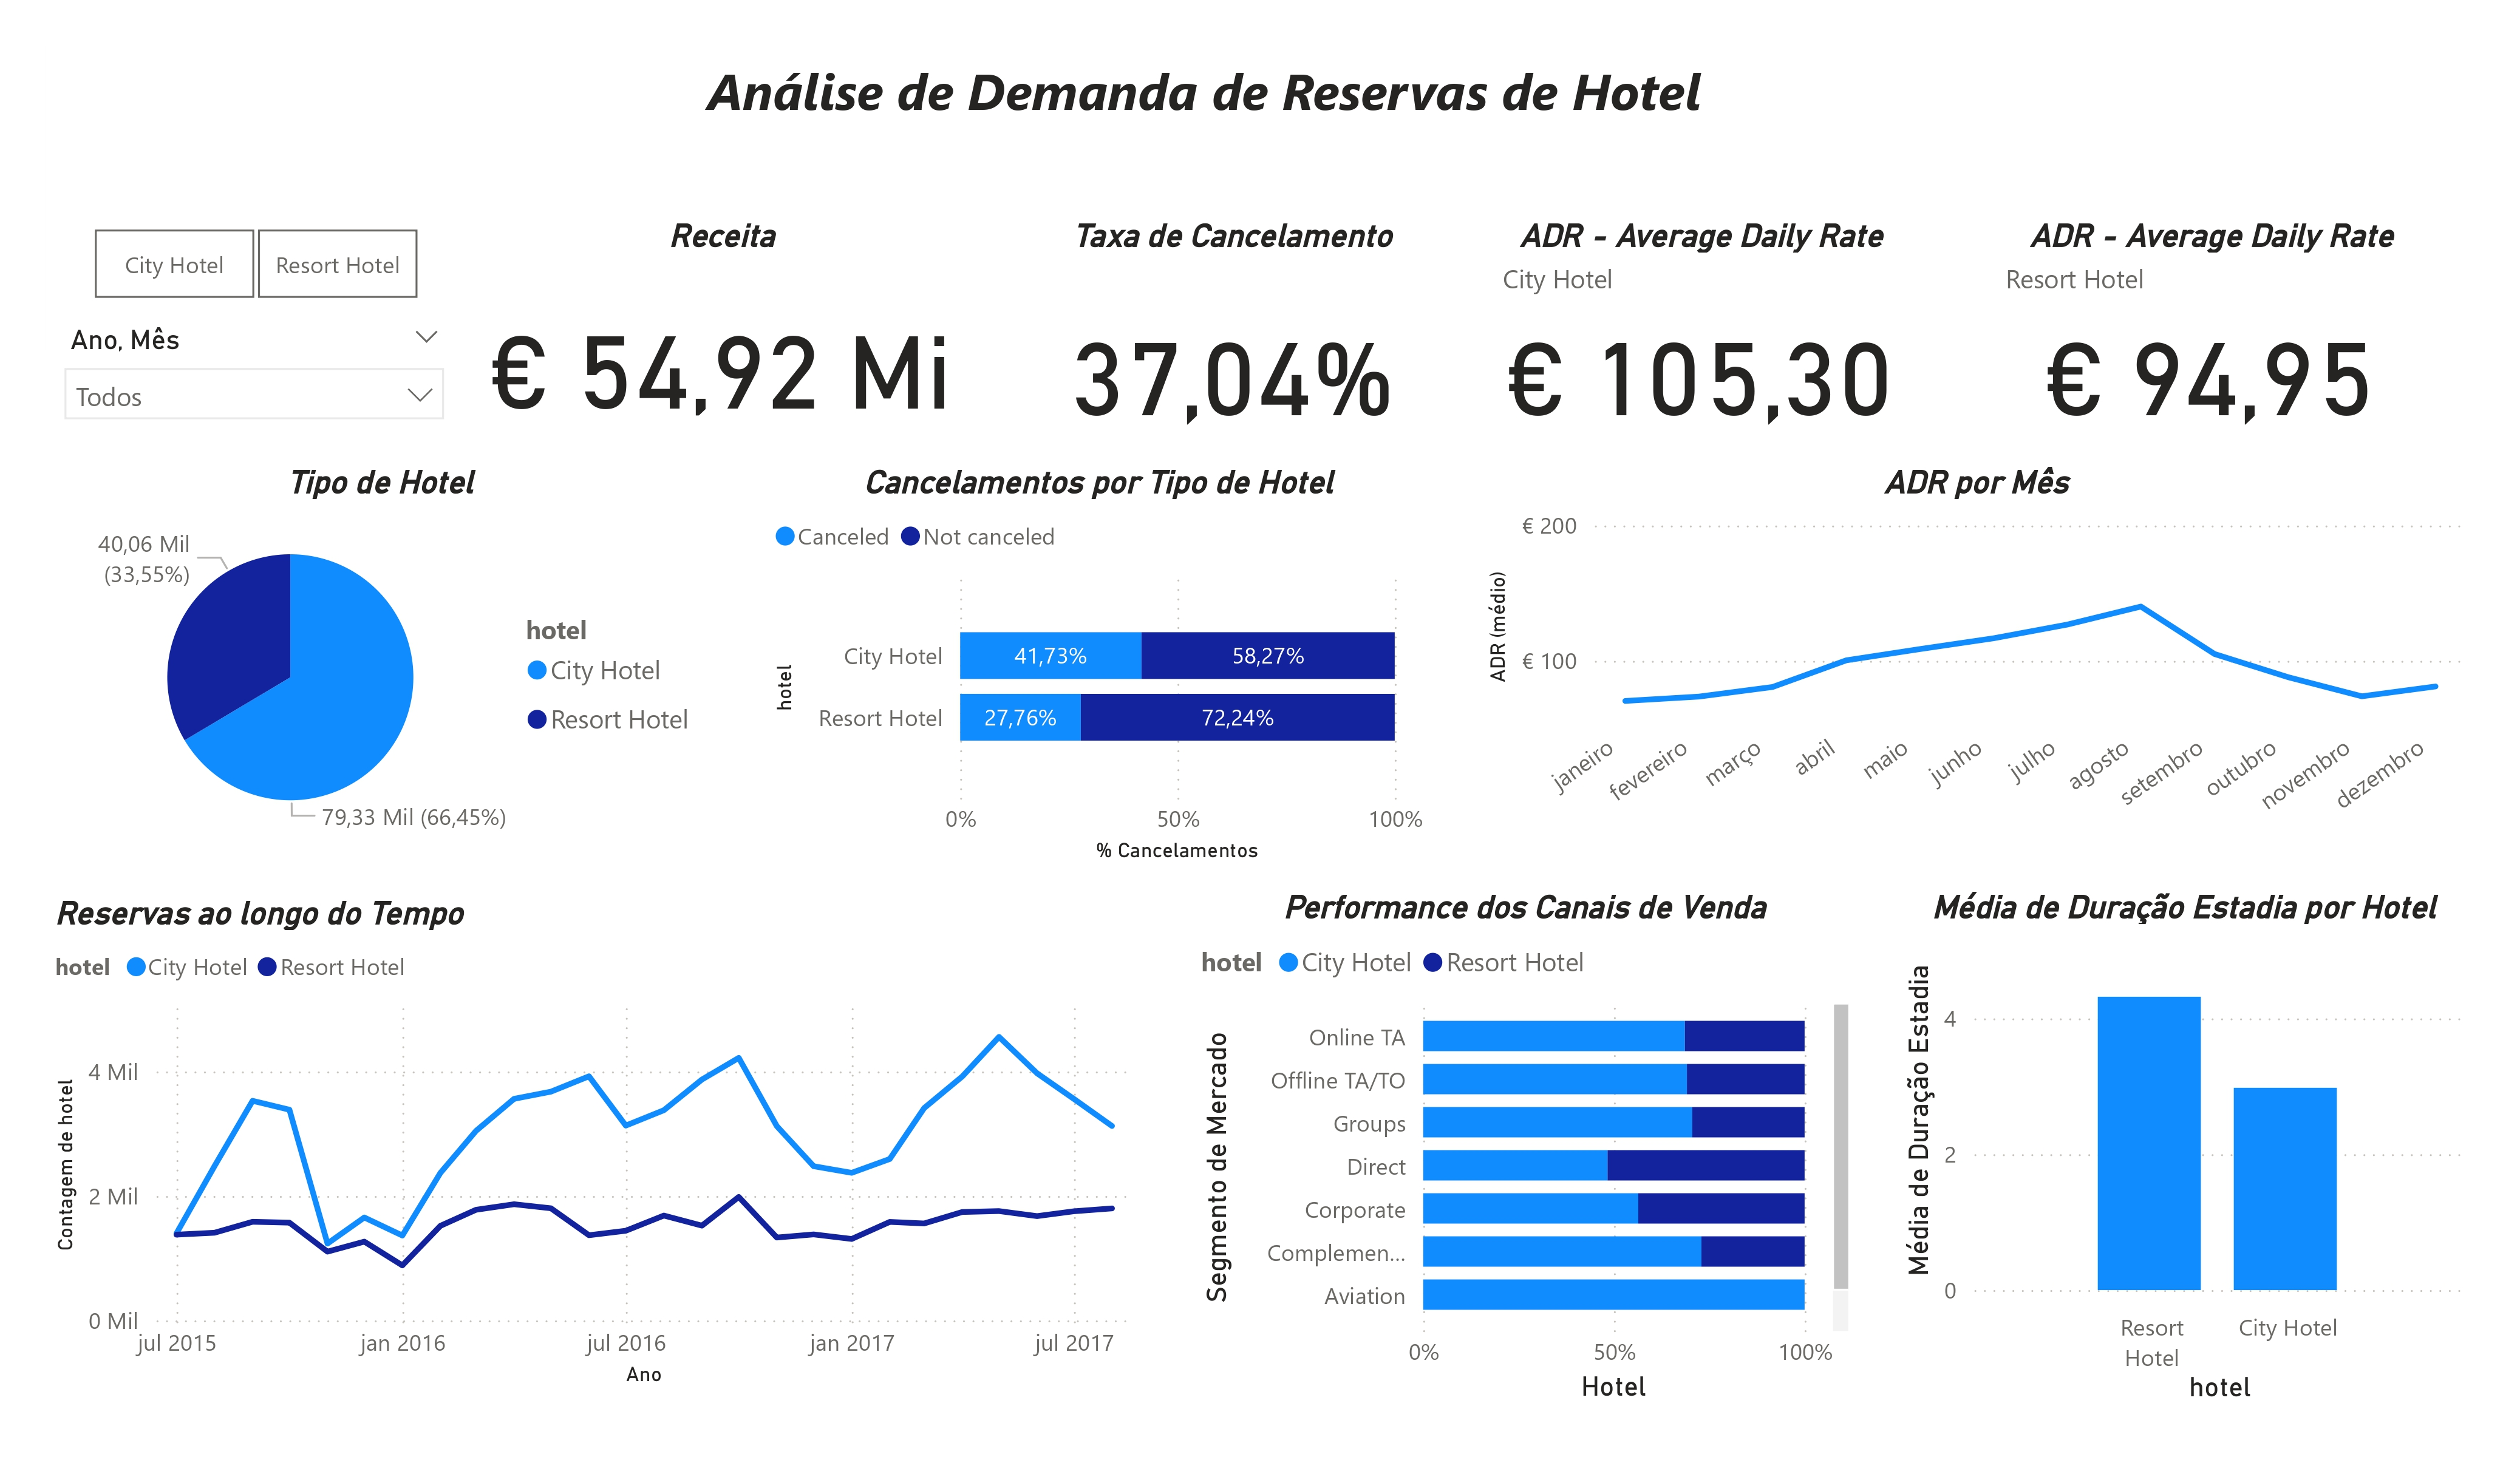

The page's visual inventory and layout, read from the dashboard file:
{"tool":"powerbi","page":{"name":"Visão Geral","canvas":[1280,720],"ordinal":0},"visuals":[{"type":"pieChart","title":"Tipo de Hotel","fields":{"Category":["hotel_booking_tratado.hotel"],"Y":["CountNonNull(hotel_booking_tratado.hotel)"]},"box":[0,220,353,207],"z":0},{"type":"card","title":"Taxa de Cancelamento","fields":{"Values":["hotel_booking_tratado.Taxa_de_Cancelamento"]},"box":[520,90,211,117],"z":1000},{"type":"hundredPercentStackedBarChart","title":"Cancelamentos por Tipo de Hotel","fields":{"Category":["hotel_booking_tratado.hotel"],"Series":["hotel_booking_tratado.is_canceled"],"Y":["CountNonNull(hotel_booking_tratado.is_canceled)"]},"box":[379,220,352,215],"z":2000},{"type":"card","title":"Receita ","fields":{"Values":["Sum(hotel_booking_tratado.Receita)"]},"box":[227,90,259,110],"z":3000},{"type":"card","title":"ADR - Average Daily Rate ","fields":{"Values":["Avg(hotel_booking_tratado.adr)"]},"box":[763,90,219,117],"z":4000},{"type":"card","title":"ADR - Average Daily Rate ","fields":{"Values":["Avg(hotel_booking_tratado.adr)"]},"box":[1028,90,227,117],"z":5000},{"type":"slicer","fields":{"Values":["hotel_booking_tratado.arrival_date.Variation.Hierarquia de datas.Ano","hotel_booking_tratado.arrival_date.Variation.Hierarquia de datas.Mês"]},"box":[0,141.5,220,65.4],"z":6000},{"type":"lineChart","title":"Reservas ao longo do Tempo","fields":{"Y":["CountNonNull(hotel_booking_tratado.hotel)"],"Category":["hotel_booking_tratado.arrival_date.Variation.Hierarquia de datas.Ano","hotel_booking_tratado.arrival_date.Variation.Hierarquia de datas.Mês"],"Series":["hotel_booking_tratado.hotel"]},"box":[0,447,588,264],"z":7000},{"type":"lineChart","title":"ADR por Mês","fields":{"Y":["Avg(hotel_booking_tratado.adr)"],"Category":["hotel_booking_tratado.arrival_date.Variation.Hierarquia de datas.Mês"]},"box":[755,220,525,215],"z":8000},{"type":"columnChart","title":"Média de Duração Estadia por Hotel","fields":{"Y":["Avg(hotel_booking_tratado.Duração Estadia)"],"Category":["hotel_booking_tratado.hotel"]},"box":[974.4,444.4,305.6,275.6],"z":9000},{"type":"hundredPercentStackedBarChart","title":"Performance dos Canais de Venda","fields":{"Category":["hotel_booking_tratado.market_segment"],"Y":["CountNonNull(hotel_booking_tratado.hotel)"],"Series":["hotel_booking_tratado.hotel"]},"box":[604,444,351,276],"z":10000},{"type":"textbox","box":[296.7,0,627.8,63.3],"z":11000},{"type":"slicer","fields":{"Values":["hotel_booking_tratado.hotel"]},"box":[0,90,220,50],"z":12000}]}

Visuals, with their boxes on the page's 1280x720 design canvas (x1, y1, x2, y2). These are canvas units, not pixel positions in the 2520x1457 screenshot, which may show the page scaled, cropped or inside an application window:
"Tipo de Hotel" pieChart: bbox=[0, 220, 353, 427]
"Taxa de Cancelamento" card: bbox=[520, 90, 731, 207]
"Cancelamentos por Tipo de Hotel" hundredPercentStackedBarChart: bbox=[379, 220, 731, 435]
"Receita " card: bbox=[227, 90, 486, 200]
"ADR - Average Daily Rate " card: bbox=[763, 90, 982, 207]
"ADR - Average Daily Rate " card: bbox=[1028, 90, 1255, 207]
slicer - hotel_booking_tratado.arrival_date.Variation.Hierarquia de datas.Ano x hotel_booking_tratado.arrival_date.Variation.Hierarquia de datas.Mês: bbox=[0, 142, 220, 207]
"Reservas ao longo do Tempo" lineChart: bbox=[0, 447, 588, 711]
"ADR por Mês" lineChart: bbox=[755, 220, 1280, 435]
"Média de Duração Estadia por Hotel" columnChart: bbox=[974, 444, 1280, 720]
"Performance dos Canais de Venda" hundredPercentStackedBarChart: bbox=[604, 444, 955, 720]
textbox: bbox=[297, 0, 924, 63]
slicer - hotel_booking_tratado.hotel: bbox=[0, 90, 220, 140]
